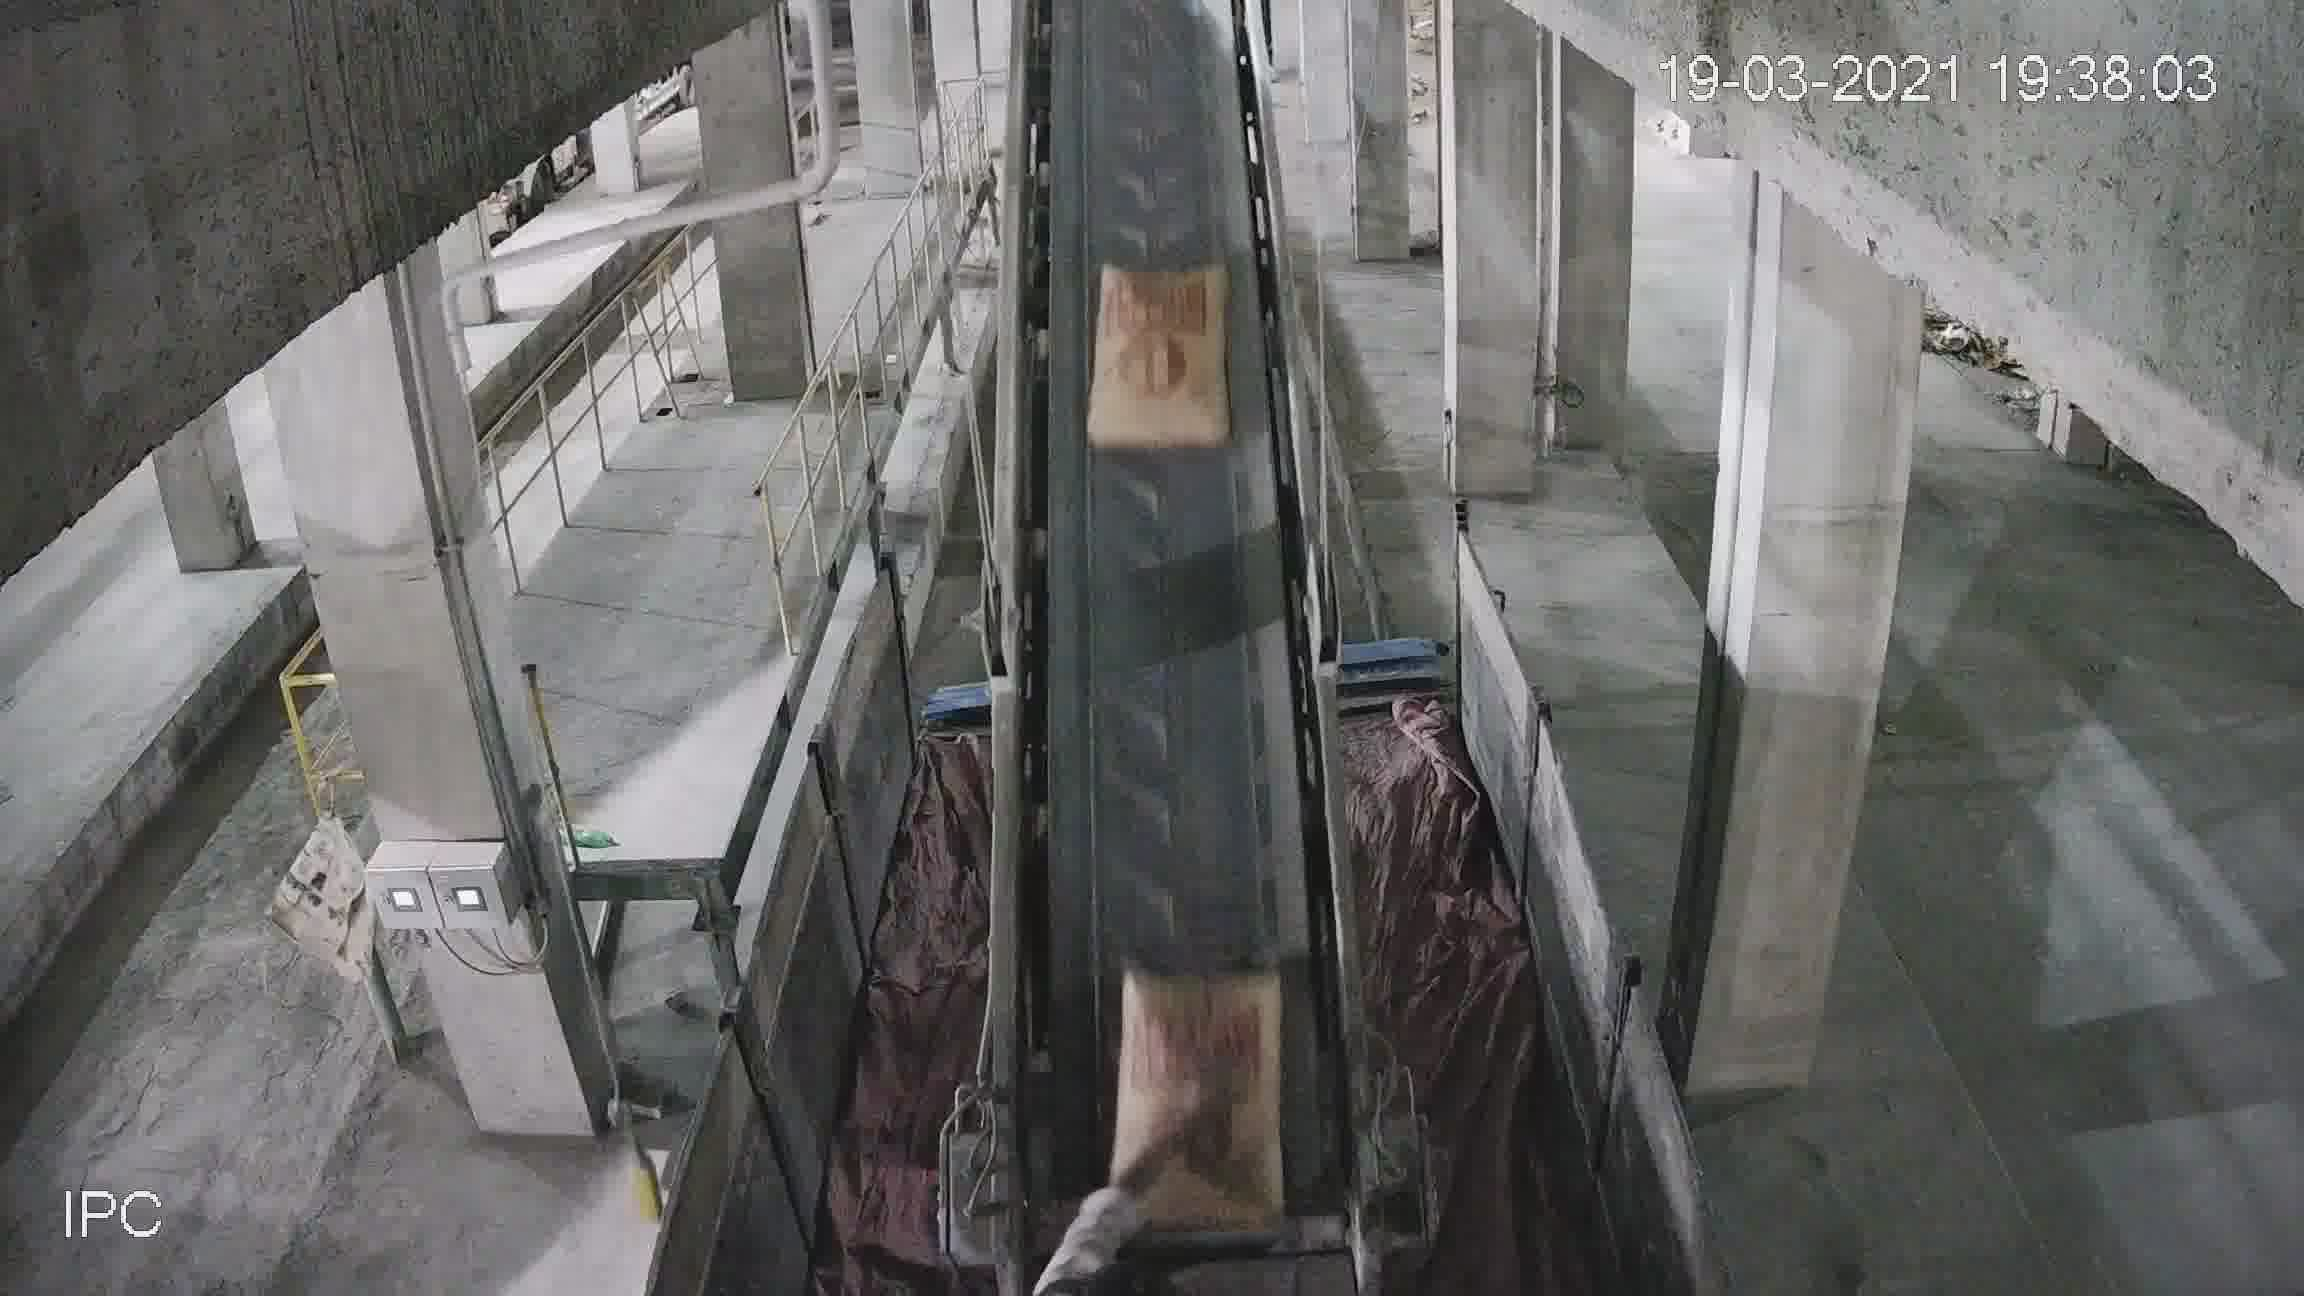bag: (1119, 973, 1283, 1196), (1087, 255, 1226, 449)
belt: (978, 9, 1356, 1166)
